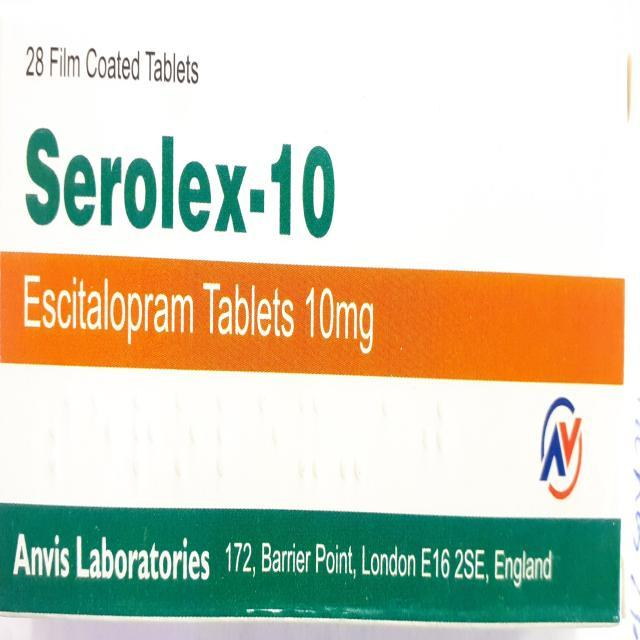drug-name: (19, 124, 340, 238)
